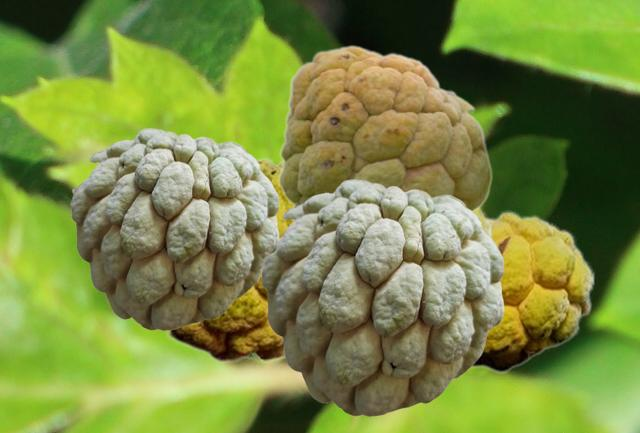atis: (261, 179, 503, 415), (70, 128, 278, 329), (277, 44, 491, 211), (157, 157, 291, 362), (470, 210, 594, 372)
